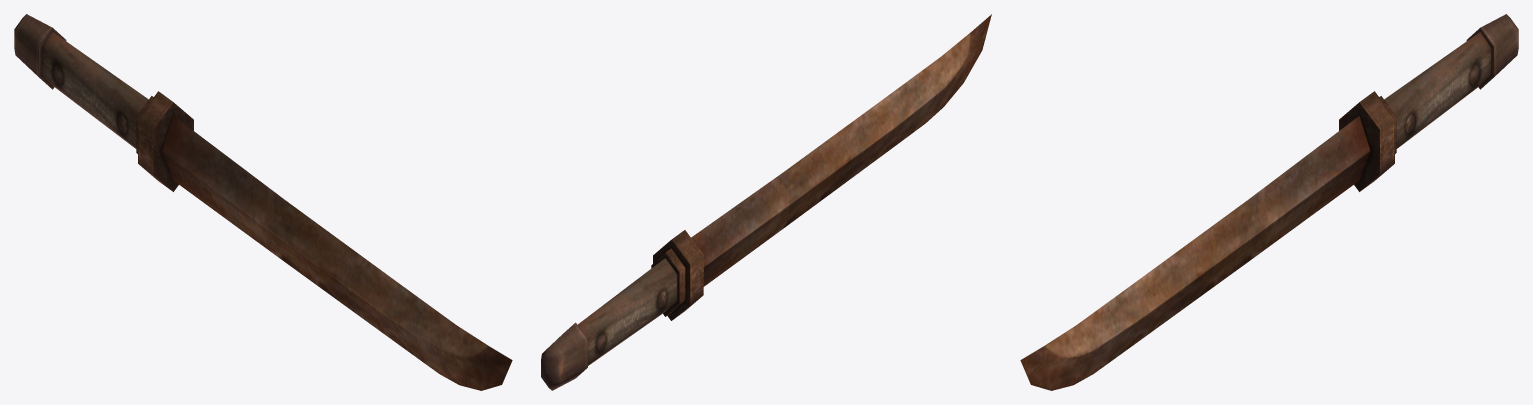
The picture shows the model from 3 angles, left to right: view 1: azimuth 30°, elevation 25°; view 2: azimuth 150°, elevation 25°; view 3: azimuth 330°, elevation 25°; orthographic projection. The views are drawn at different scales.
Visible parts, largest first — view 1: mKatana; view 2: mKatana; view 3: mKatana.
Part boxes in pixels (left/top/right/bottom): mKatana: left=14, top=14, right=512, bottom=390; mKatana: left=541, top=14, right=991, bottom=390; mKatana: left=1020, top=14, right=1518, bottom=390.
Bounding box in the file's own units: 0.0454 × 0.0956 × 0.946.
